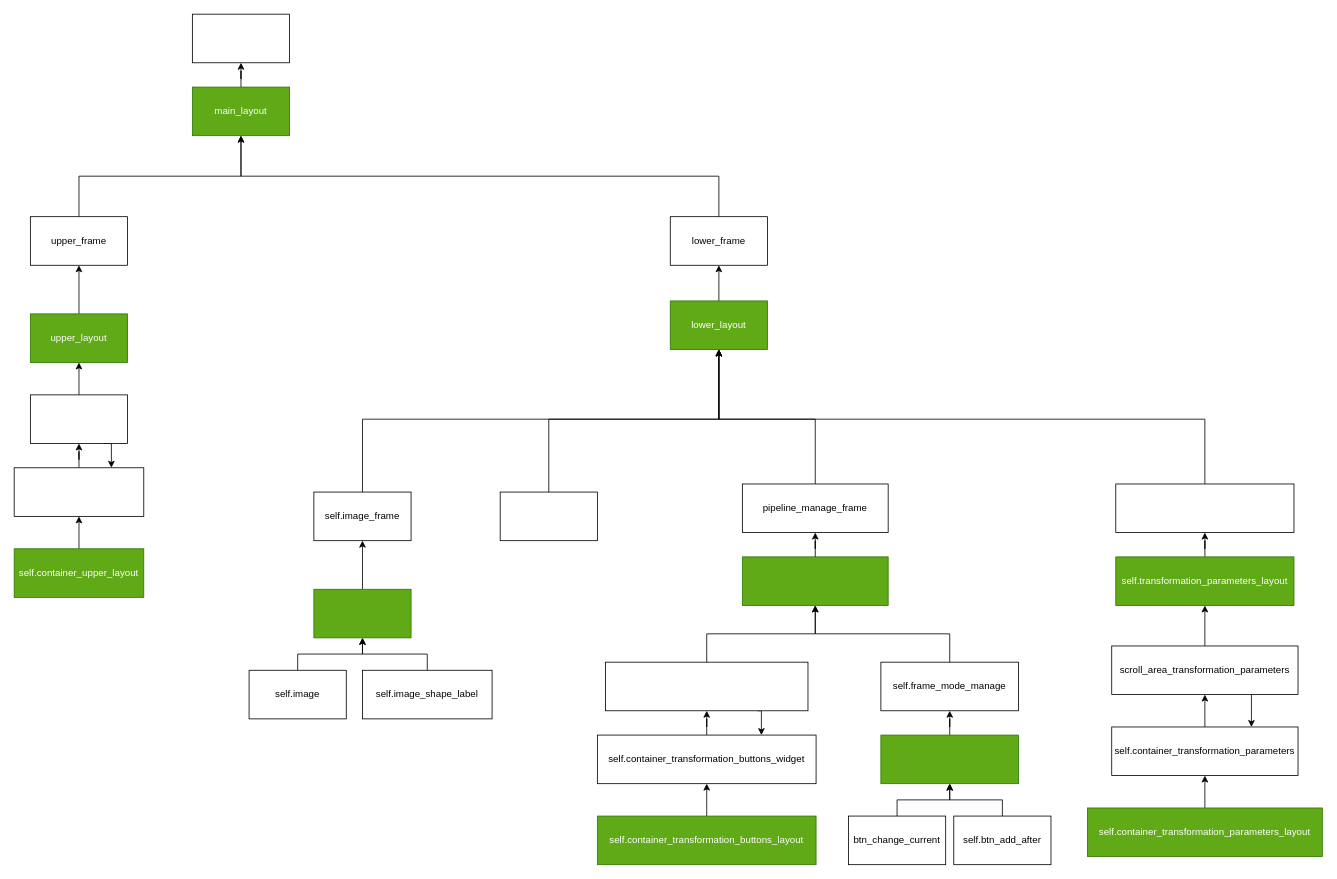
Some shapes in this 1337 by 879 pixel diagram are drawn without their labels. Here are the shapes that lost their labels. From the top down, the box of each, then its label:
(192, 13, 290, 63): central_widget
(30, 394, 128, 443): scroll_area_pipeline
(13, 467, 144, 516): container_upper_widget
(1115, 483, 1294, 533): transformation_parameters_frame
(499, 491, 597, 541): self.import_button
(742, 556, 888, 605): self.pipeline_manage_layout
(313, 588, 411, 638): image_frame_layout
(605, 661, 808, 711): scroll_area_transformation_pipeline
(880, 734, 1019, 784): mode_manage_layout
